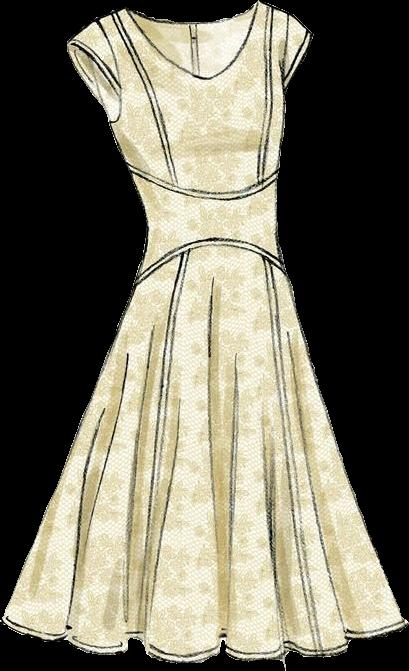Bodice: (93, 0, 290, 194)
Hemline: (0, 616, 408, 665)
Neckline: (125, 3, 263, 83)
Skirt: (2, 166, 408, 664)
Sleeve: (67, 22, 118, 121), (283, 16, 309, 87)
Sleeveline: (92, 20, 122, 123), (281, 12, 295, 92)
Waistline: (132, 233, 289, 288), (125, 160, 279, 200)
